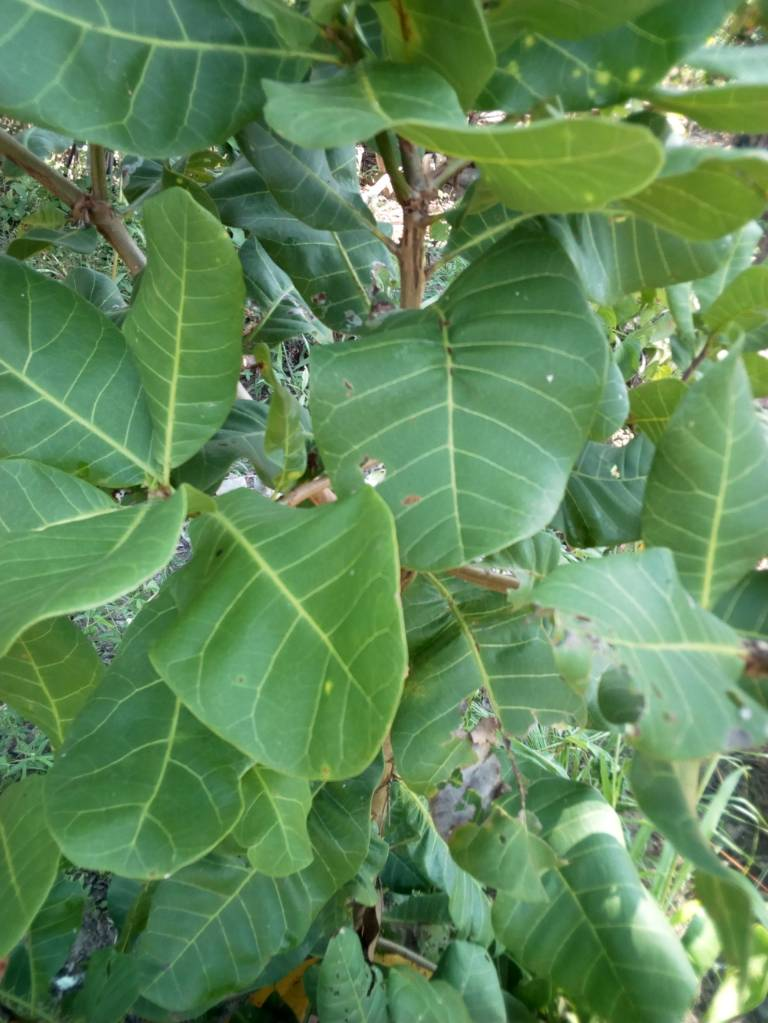Anoplonemis curvipes: (293, 216, 629, 572)
